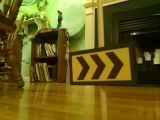right: (71, 46, 132, 81)
